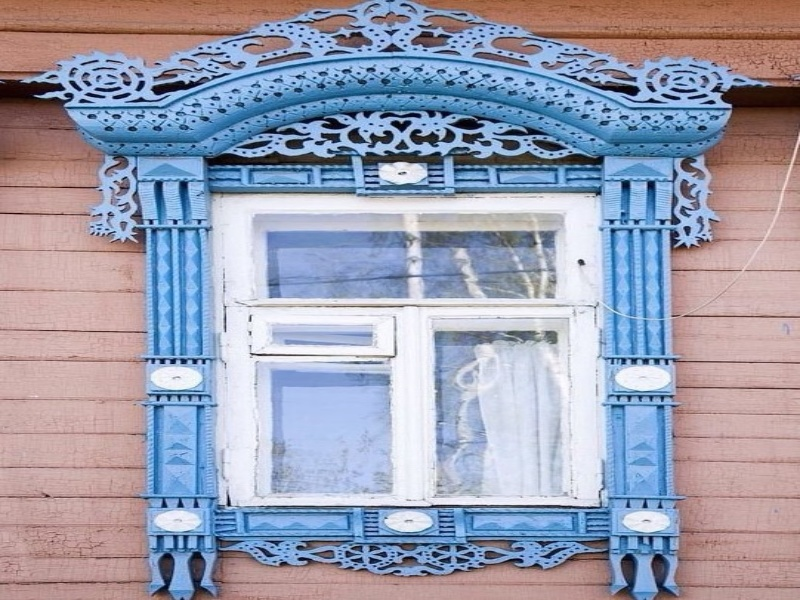window: (214, 191, 606, 504)
